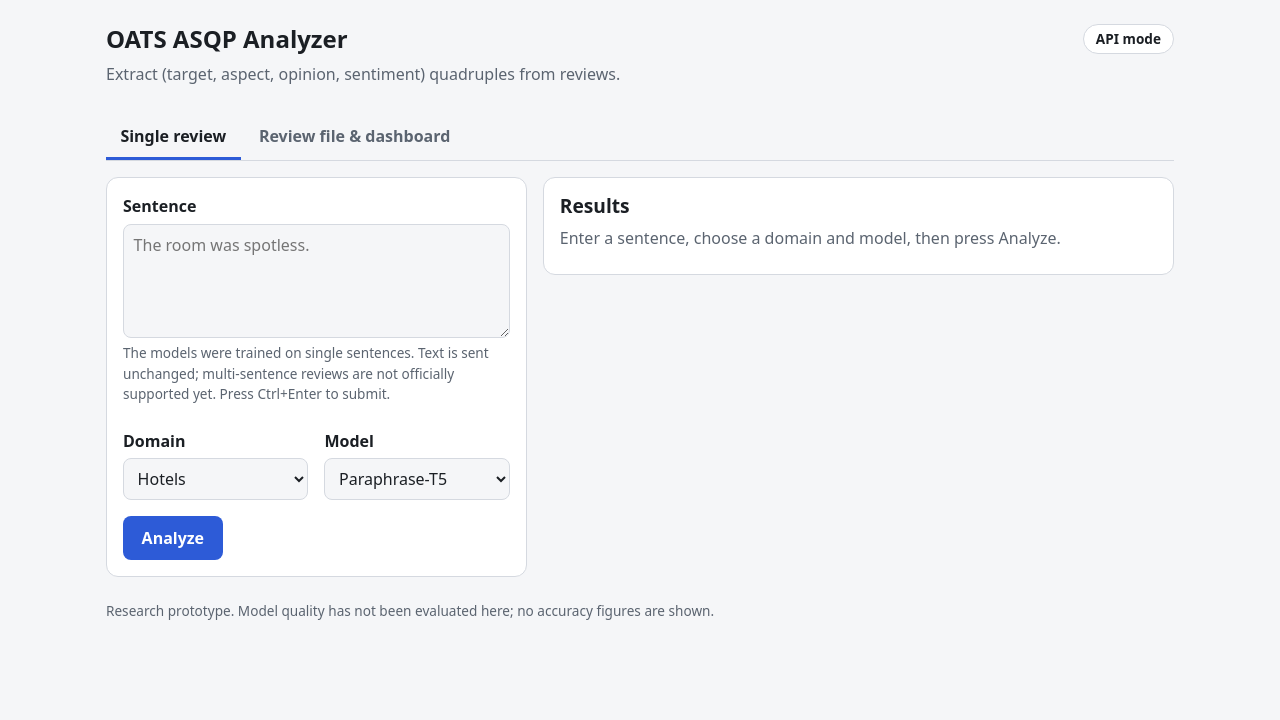
Test: App › shows an empty state when the response has no quadruples
This screenshot has width=1280, height=720.
In the text box labelled "Sentence": (316, 281) [123, 224, 510, 338], type "I stayed here in May."
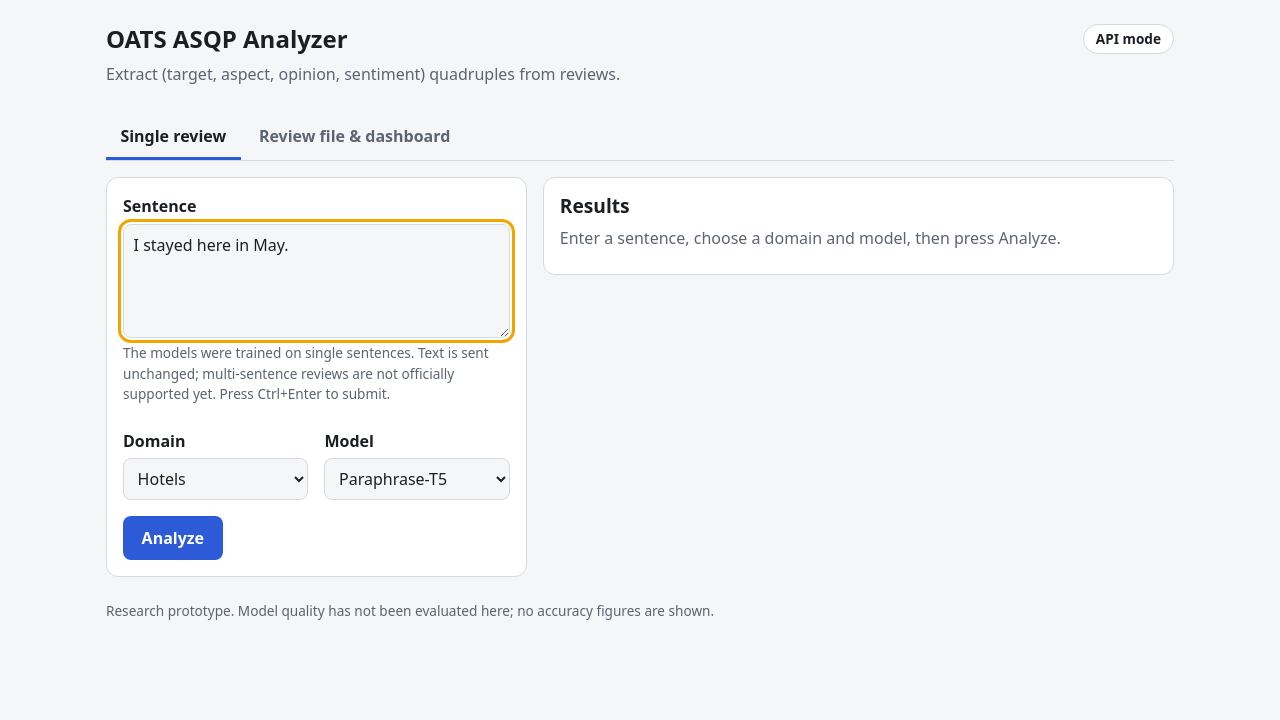
Click the button "Analyze": (173, 538) [123, 516, 223, 560]
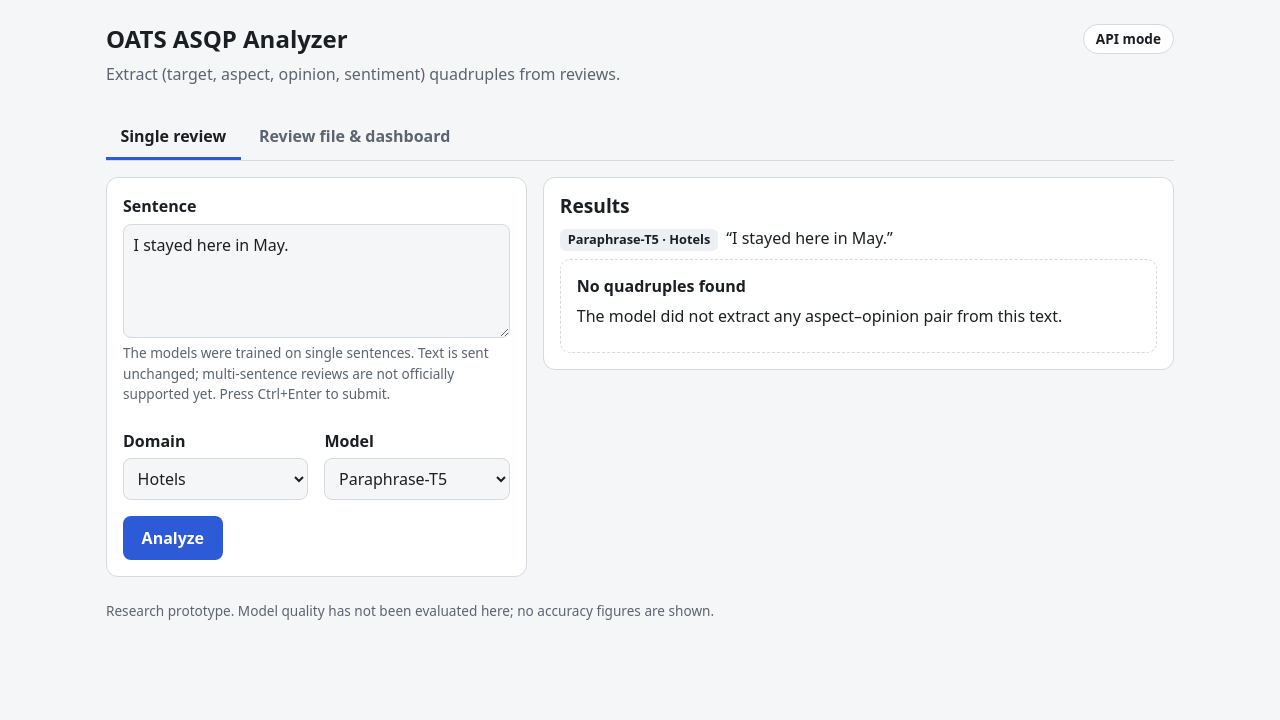
expect the heading "No quadruples found" is shown: met, box [577, 275, 746, 297]
